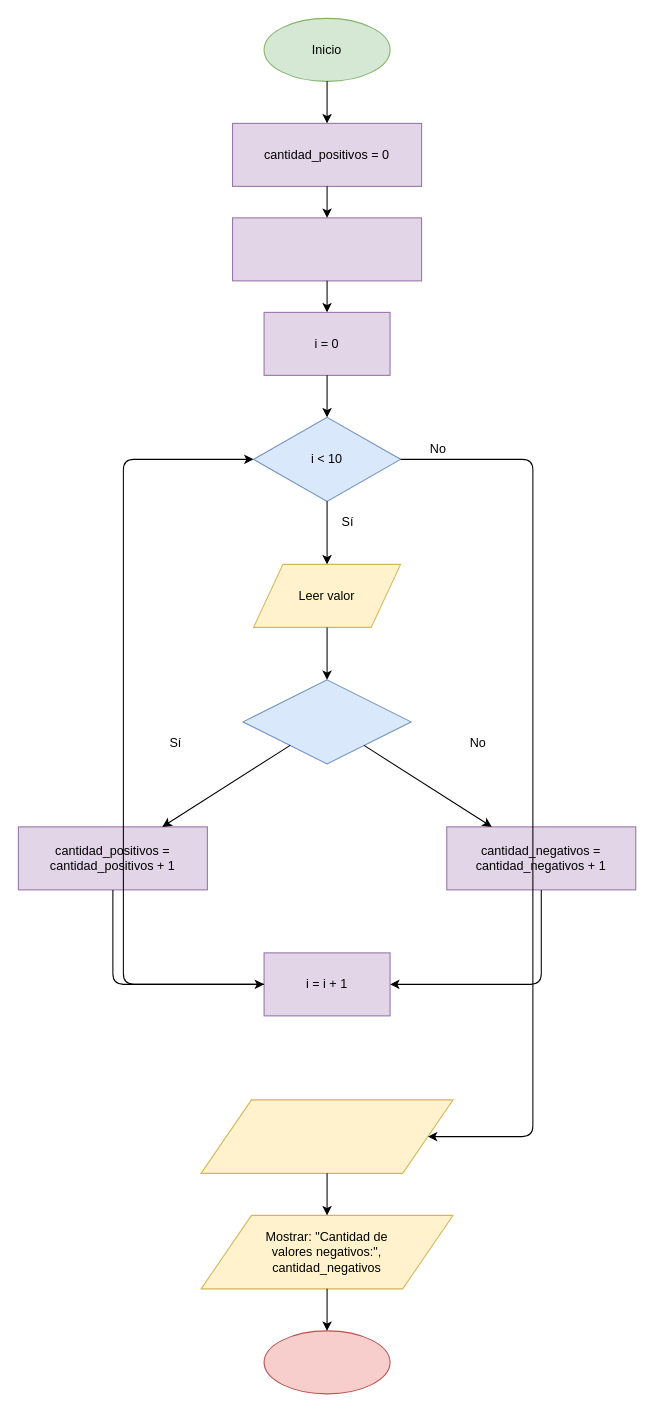
The diagram is 654 pixels wide and 1412 high, and some of its shapes have lost their labels. Here are the shapes that lost their labels. From the top down, the centre of each, then its label:
the point at 327,249: cantidad_negativos = 0
the point at 326,721: valor >= 0
the point at 326,1136: Mostrar: "Cantidad de valores positivos:", cantidad_positivos
the point at 326,1362: Fin
